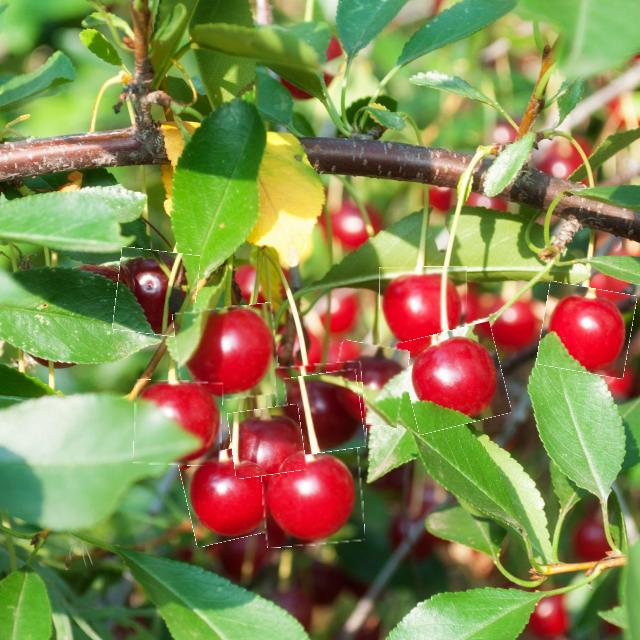cherry: (402, 326, 507, 430), (262, 448, 364, 546), (175, 305, 278, 402), (182, 446, 277, 543), (540, 284, 634, 376), (276, 363, 366, 451), (134, 380, 222, 465), (380, 267, 467, 352), (115, 249, 198, 336), (287, 372, 364, 454), (333, 343, 408, 425), (229, 407, 304, 477)
